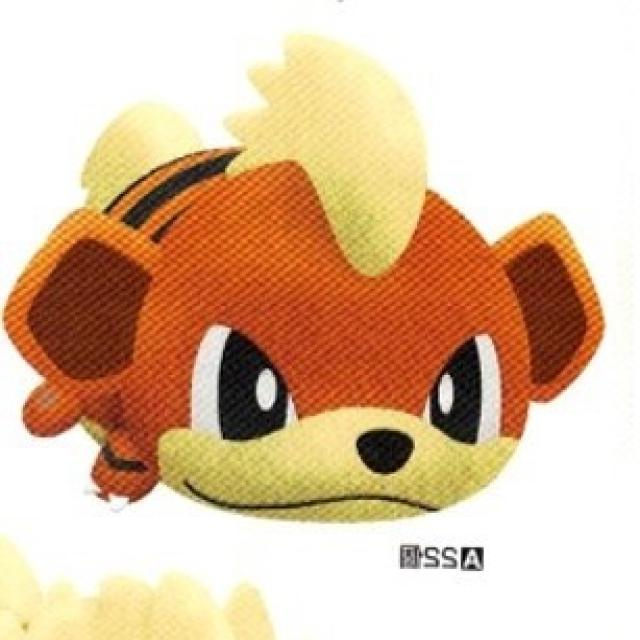Growlithe: (11, 47, 606, 544)
